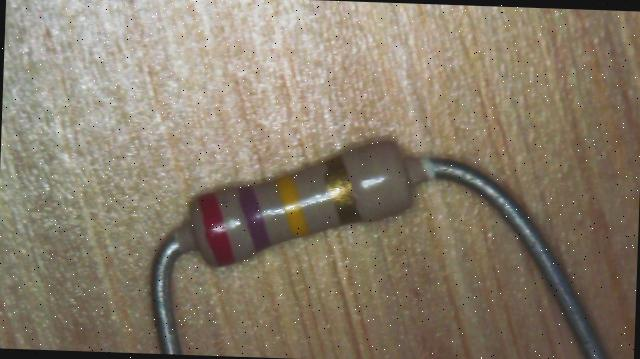gold: (323, 157, 362, 224)
red: (197, 192, 236, 266)
resistor: (162, 111, 448, 293)
violet: (237, 185, 272, 252)
yellow: (274, 174, 311, 237)
